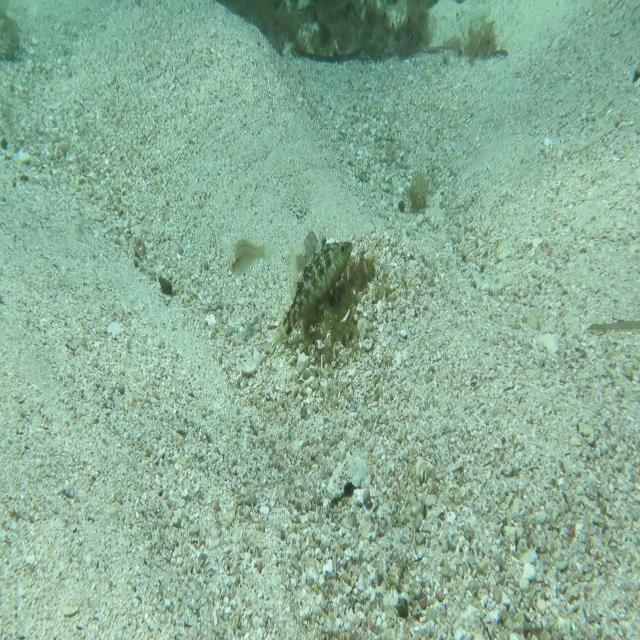ROLL: (269, 230, 355, 352)
female: (286, 222, 324, 282)
nest: (277, 246, 374, 366)
other_fish: (226, 231, 278, 286)
